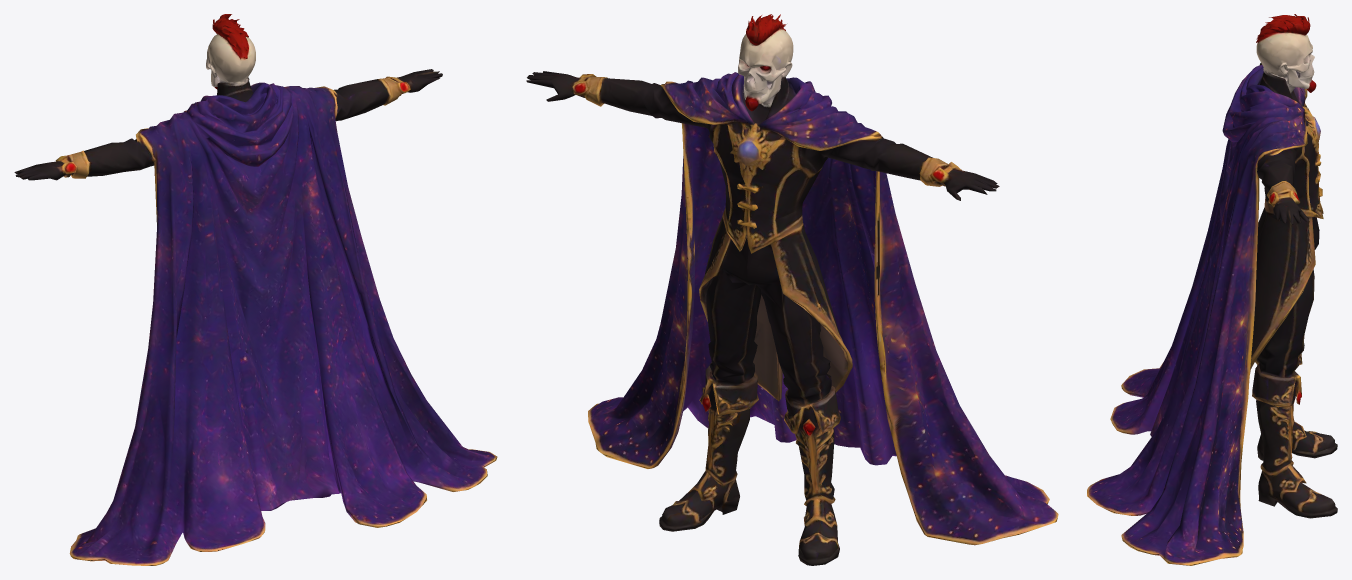
The model's file is bob.glb.
3 renders of one model, left to right at view 1: azimuth 30°, elevation 25°; view 2: azimuth 150°, elevation 25°; view 3: azimuth 270°, elevation 25°, orthographic. The views are drawn at different scales.
Visible parts, largest first — view 1: model; view 2: model; view 3: model.
Part boxes in pixels (x1,y1,x2,y2): model: (14, 14, 497, 565); model: (526, 14, 1058, 565); model: (1087, 14, 1337, 565).
Size of the model in its own units: 0.9538 by 0.9999 by 0.4864.
Materials: 1 (1 with a texture image).
